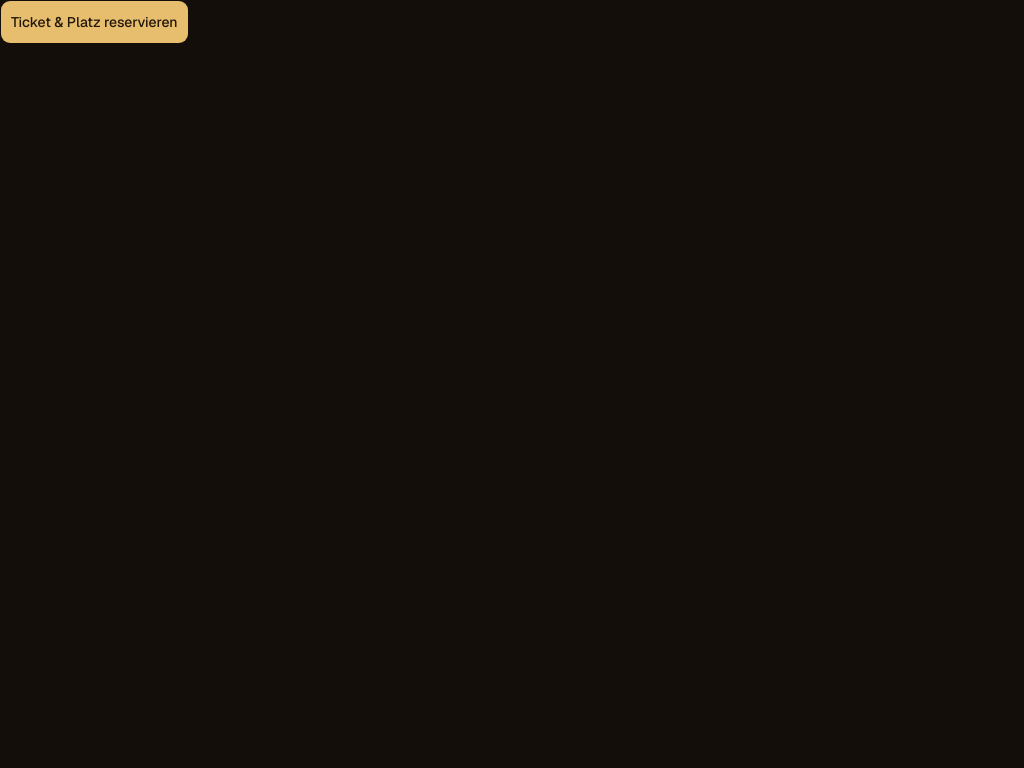
Test: interactions › öffnet die Ticket-Auswahl und merkt eine Kategorie vor
Click the button "Ticket & Platz reservieren". click: x=94, y=22
box: 0,0 -> 189,44
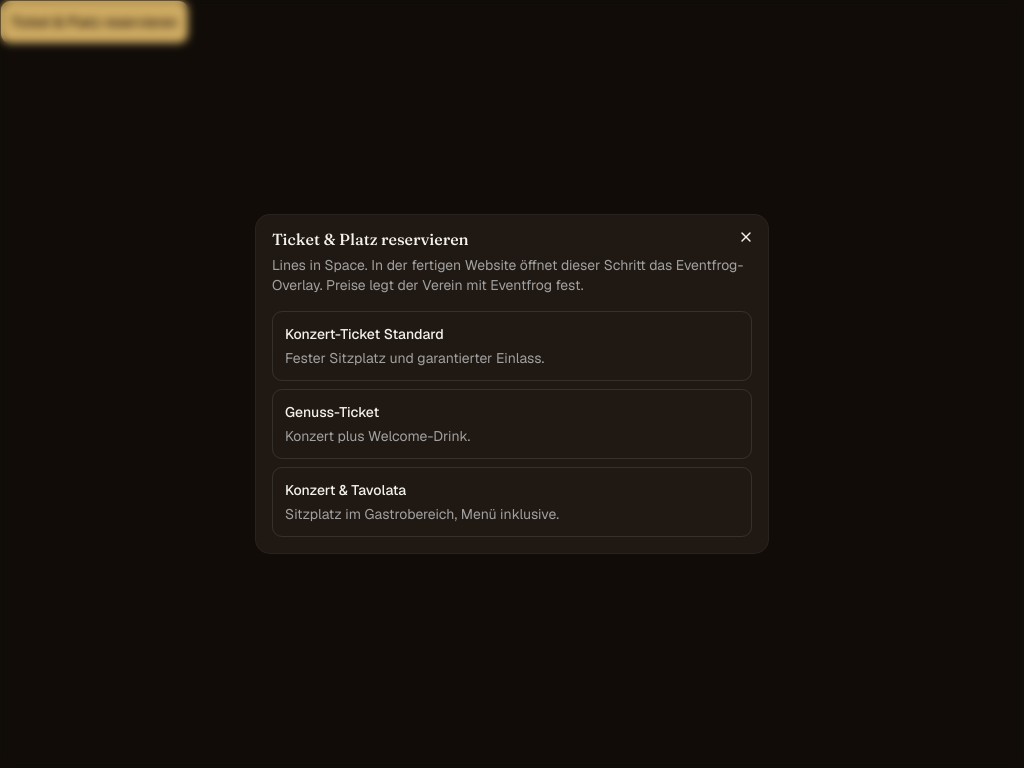
Click the button "Genuss-Ticket Konzert plus Welcome-Drink.". click: x=332, y=412
box: 272,389 -> 752,459
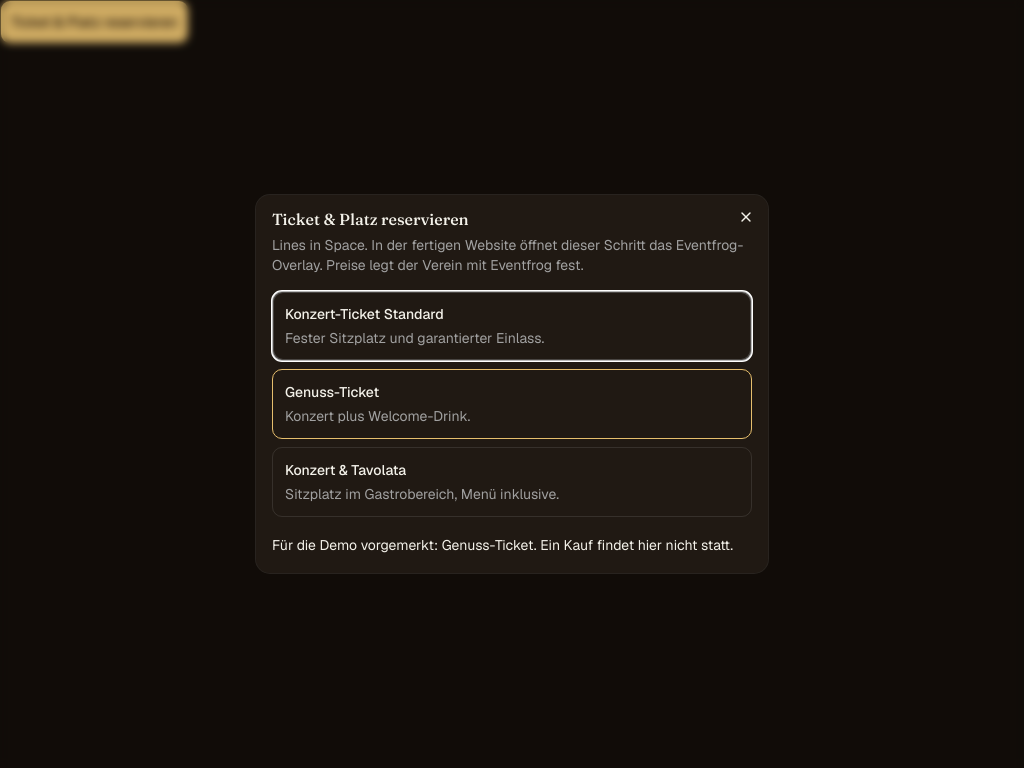
Check: the message shows "Ein Kauf findet hier nicht statt", box 534,536 -> 733,554
